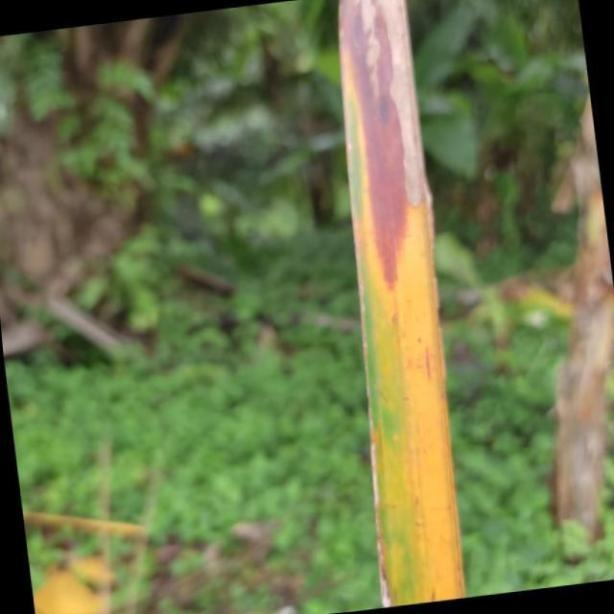Megnesium: (332, 0, 467, 614)
